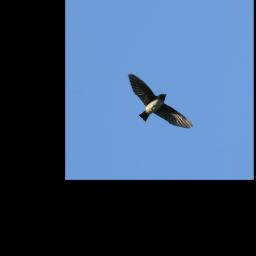Swallow: (119, 74, 201, 131)
